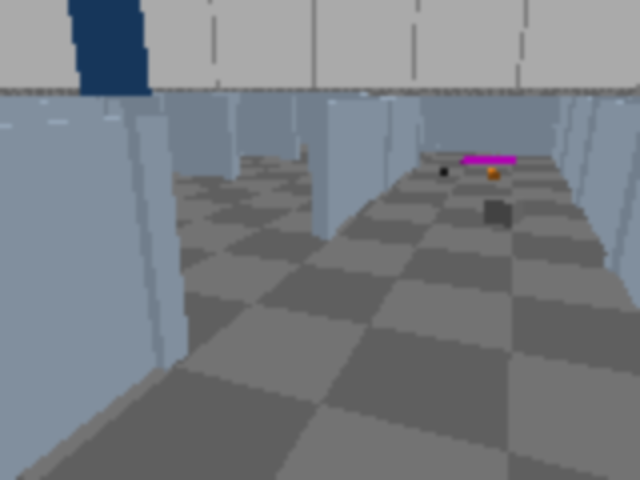obstacle: (483, 194, 525, 227)
puck: (483, 168, 502, 183)
